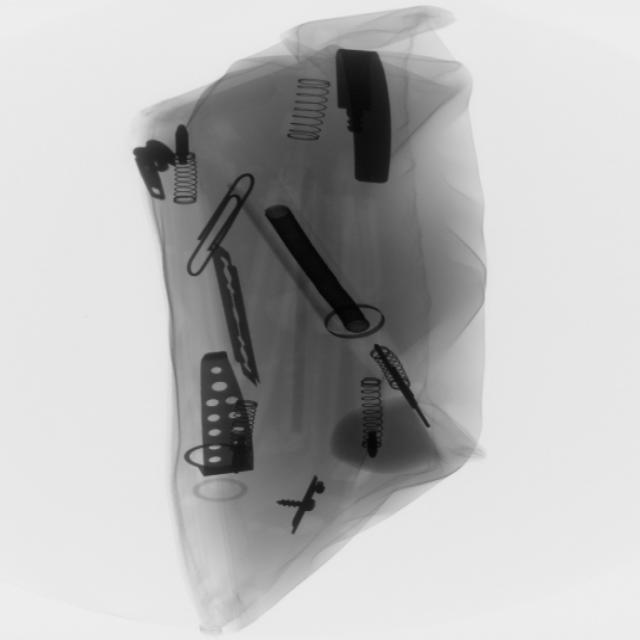BLADE: (206, 238, 263, 397)
